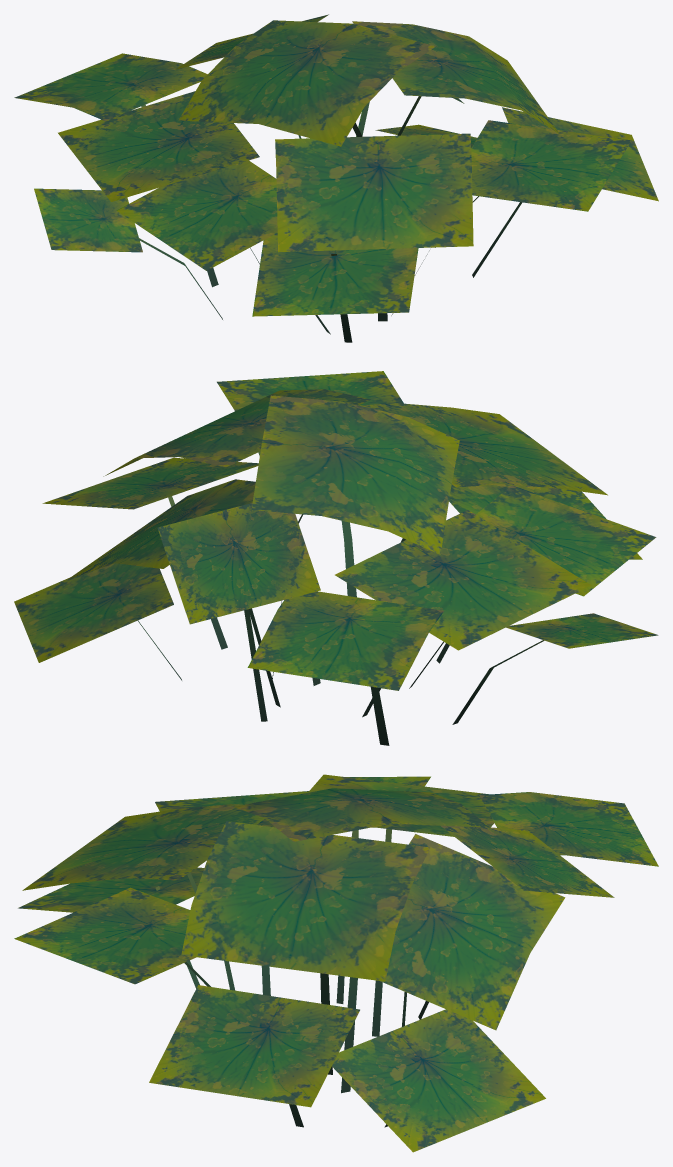
The model's file is GroundCover01.fbx.
The picture shows the model from 3 angles, top to bottom: view 1: azimuth 30°, elevation 25°; view 2: azimuth 150°, elevation 25°; view 3: azimuth 270°, elevation 25°; orthographic projection. The views are drawn at different scales.
Parts seen in each view (by area): view 1: GroundCover01; view 2: GroundCover01; view 3: GroundCover01.
Part boxes in pixels (x1,y1,x2,y2): GroundCover01: (14, 14, 658, 342); GroundCover01: (14, 371, 658, 745); GroundCover01: (14, 774, 658, 1152).
Size of the model in its own units: 196 by 81.54 by 175.
